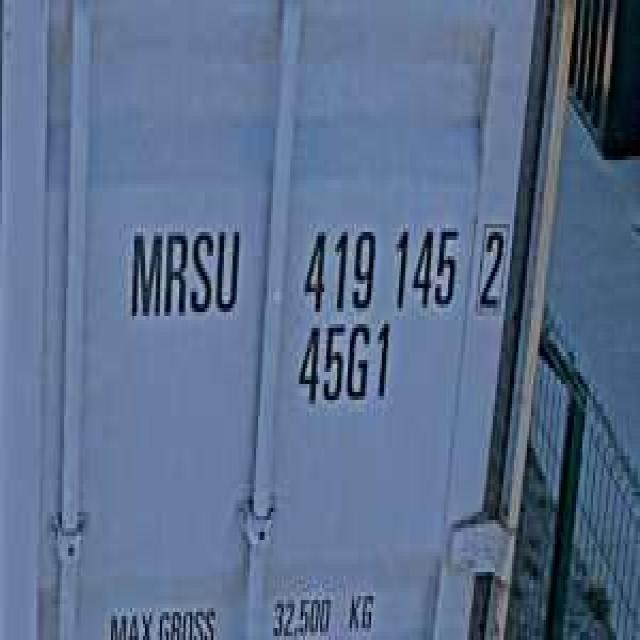dv: (471, 208, 510, 316)
owner: (124, 212, 245, 328)
serial: (296, 208, 458, 320)
size: (292, 312, 395, 416)
